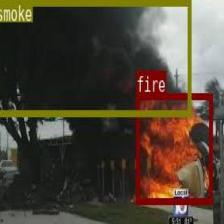fire: (136, 92, 212, 203)
smoke: (0, 0, 191, 114)
